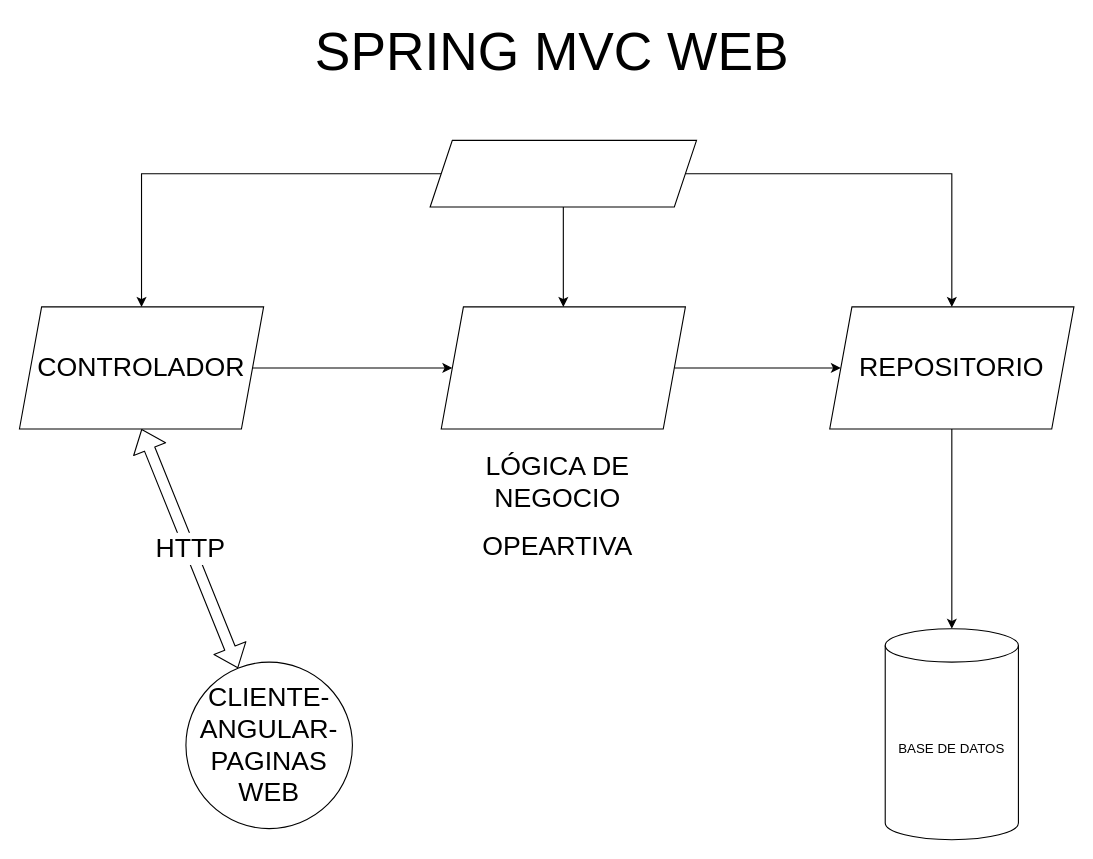
Image size: 1093x859. Some labels were removed from this diagram. The shapes that lost their labels are listed below. From the top down, each one's box as (x1, y1, x2, y2) in pixels, then its label:
(429, 139, 697, 207): COMPONENTES
(440, 306, 685, 429): SERVICIO
